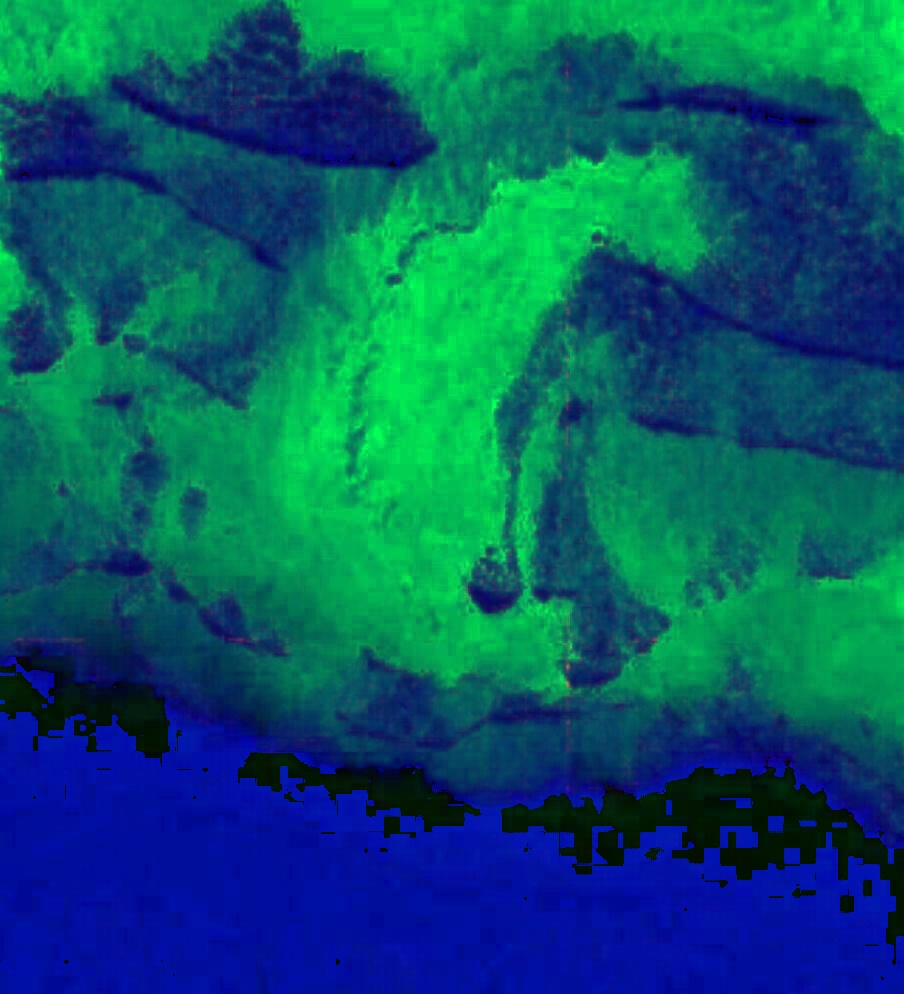rip_current: (216, 69, 726, 687)
